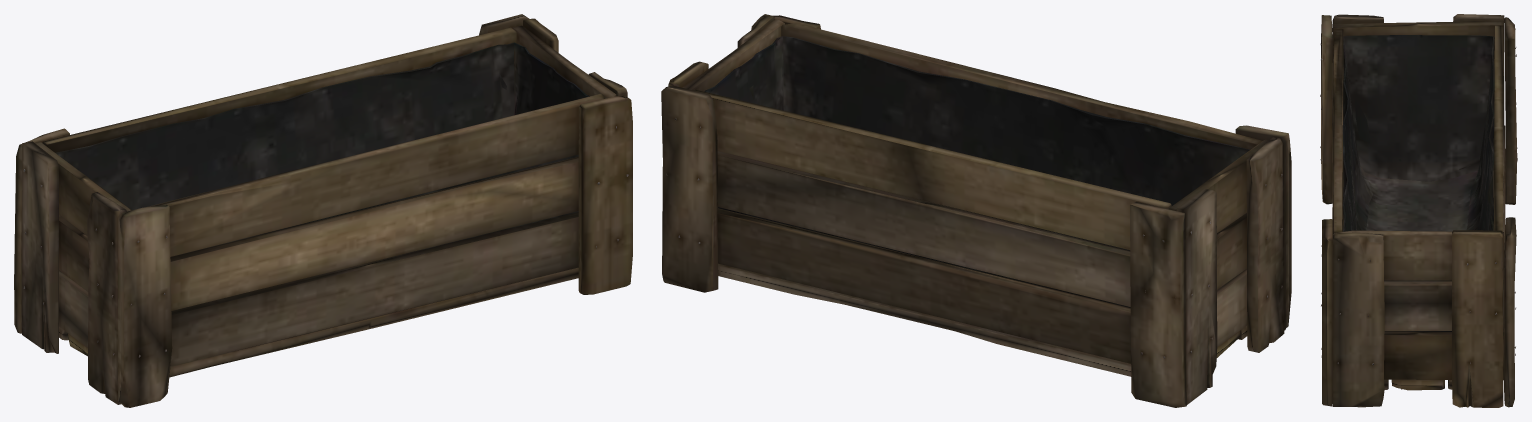
File: planter_box_02.glb
The picture shows the model from 3 angles, left to right: view 1: azimuth 30°, elevation 25°; view 2: azimuth 150°, elevation 25°; view 3: azimuth 270°, elevation 25°; orthographic projection. The views are drawn at different scales.
Parts seen in each view (by area): view 1: planter_box_02; view 2: planter_box_02; view 3: planter_box_02.
Boxes of the visible parts, left/top/right/bottom form: planter_box_02: left=14, top=14, right=632, bottom=407; planter_box_02: left=661, top=14, right=1291, bottom=407; planter_box_02: left=1320, top=14, right=1517, bottom=407.
Bounding box in the file's own units: 1.25 × 0.4515 × 0.467.
Materials: 1 (1 with a texture image).
